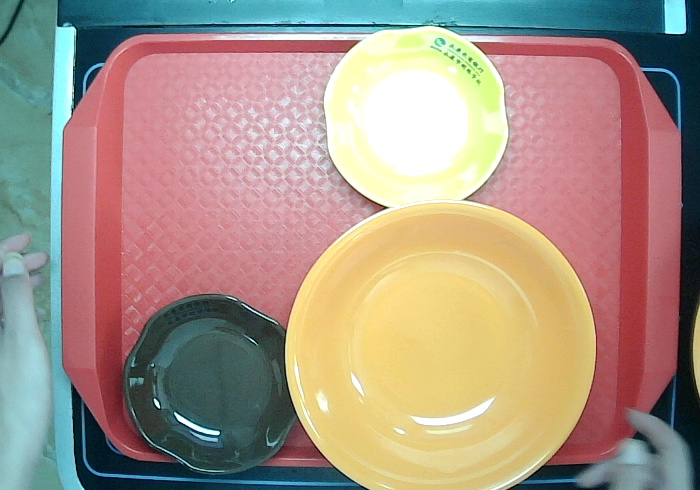YKMZ-Huang_Se_Ao_Bian_Wan: (316, 21, 510, 213)
YKMZ-Ju_Se_Tang_Wan: (281, 193, 597, 490)
YKMZ-Ka_Fei_Ao_Bian_Wan: (124, 284, 297, 479)
